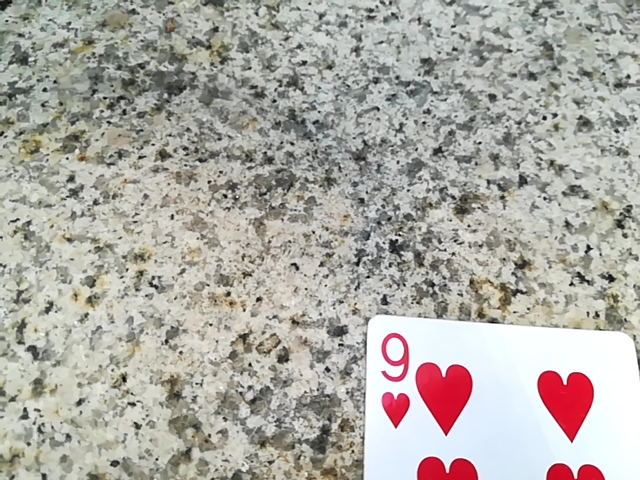hx 9: (347, 312, 639, 480)
